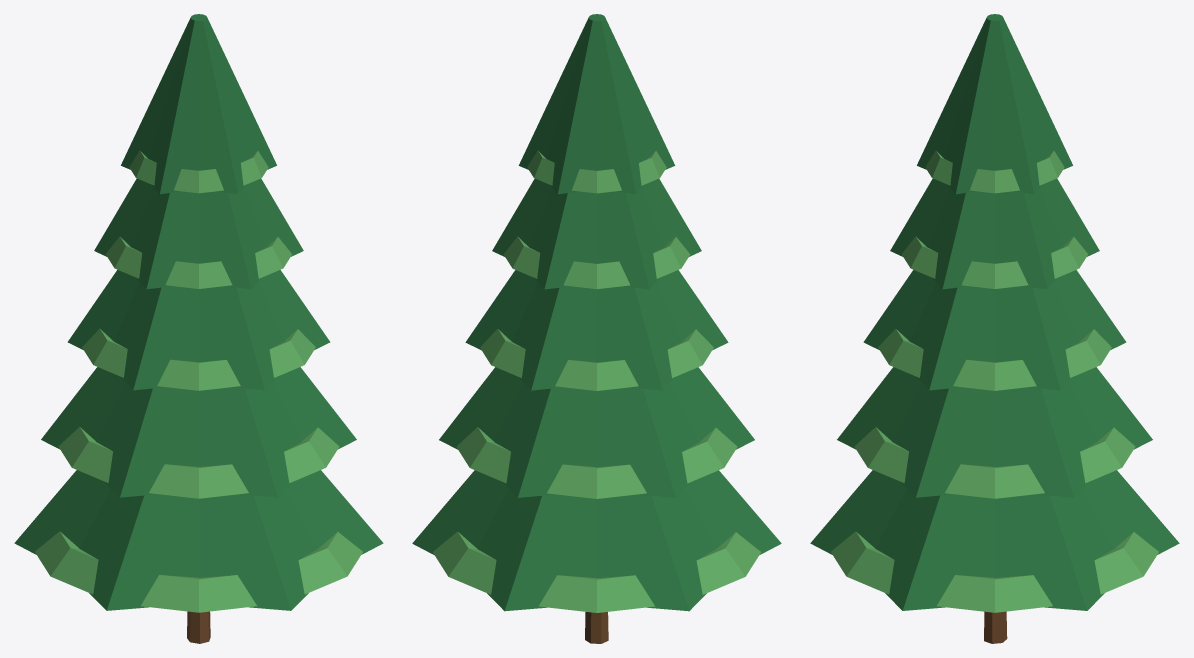
The model's file is nat_pine_c_v01.glb.
3 views of the same model, side by side, from view 1: azimuth 30°, elevation 25°; view 2: azimuth 150°, elevation 25°; view 3: azimuth 270°, elevation 25° (orthographic).
Parts seen in each view (by area): view 1: pine; view 2: pine; view 3: pine.
Part boxes in pixels (x1,y1,x2,y2): pine: (14, 14, 383, 643); pine: (412, 14, 781, 643); pine: (810, 14, 1179, 643).
Bounding box in the file's own units: 5.01 × 10 × 5.39.
